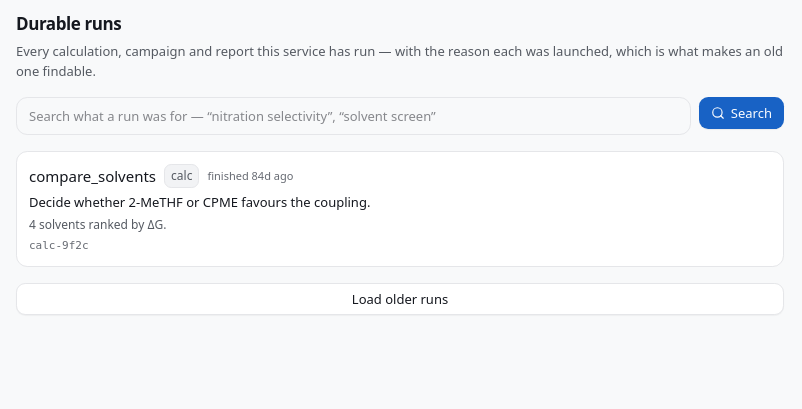
Scenario: JobsPanel › shows a run once when the registry pages overlap
Step 1. Click the button "Load older runs" → (400, 299), box [16,283,784,315]
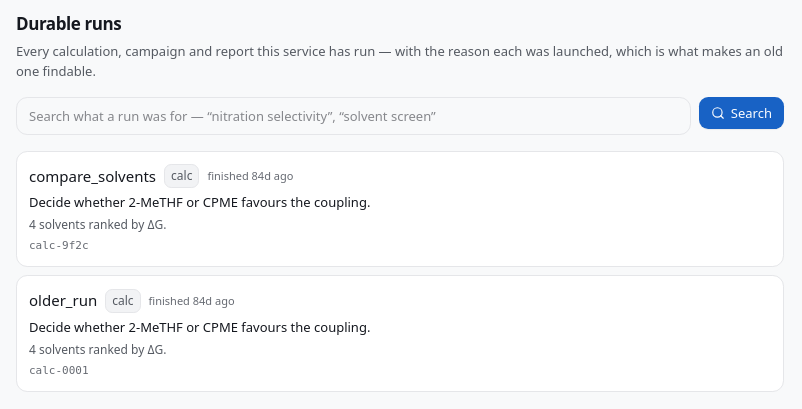
Expected: the text "compare_solvents" is shown once, [29,164,156,188]
Expected: the text "older_run" is shown, [29,288,97,313]
